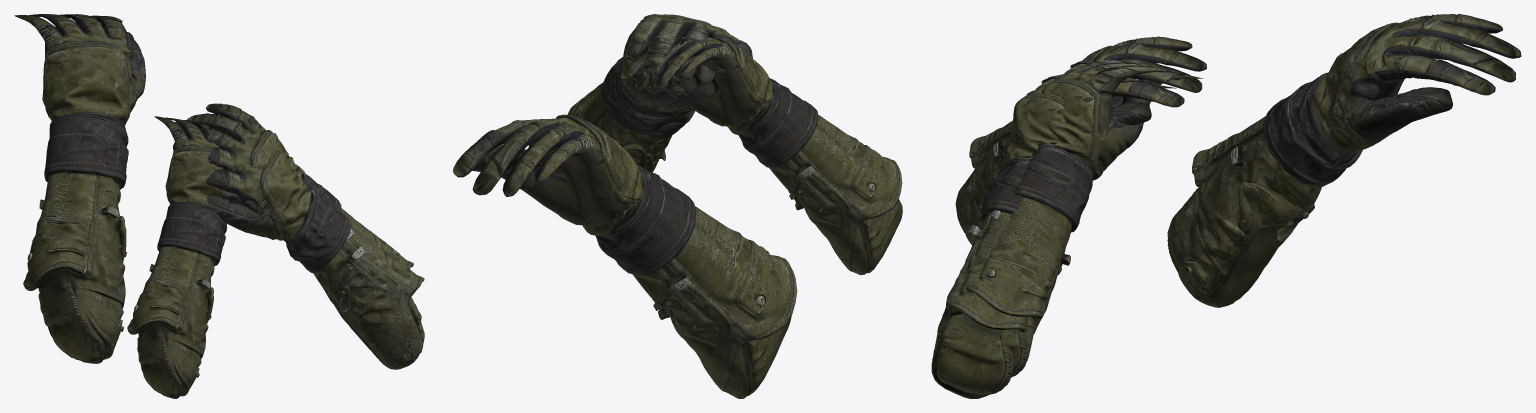
The model's file is operator-hands.glb.
3 renders of one model, left to right at view 1: azimuth 30°, elevation 25°; view 2: azimuth 150°, elevation 25°; view 3: azimuth 270°, elevation 25°, orthographic. The views are drawn at different scales.
Parts seen in each view (by area): view 1: left, right, pistol-support, pistol-grip; view 2: left, pistol-support, pistol-grip, right; view 3: left, pistol-grip, right, pistol-support.
Part boxes in pixels (x1,y1,x2,y2): left: (14, 14, 145, 363); right: (205, 150, 424, 369); pistol-support: (127, 116, 227, 398); pistol-grip: (173, 103, 413, 303); left: (453, 114, 797, 398); pistol-support: (620, 37, 902, 275); pistol-grip: (567, 14, 734, 169); right: (646, 26, 752, 172); left: (1167, 14, 1521, 307); pistol-grip: (966, 59, 1202, 377); right: (931, 74, 1176, 398); pistol-support: (955, 36, 1206, 245).
Bounding box in the file's own units: 0.5168 × 0.4565 × 0.7683.
Materials: 1 (1 with a texture image).
